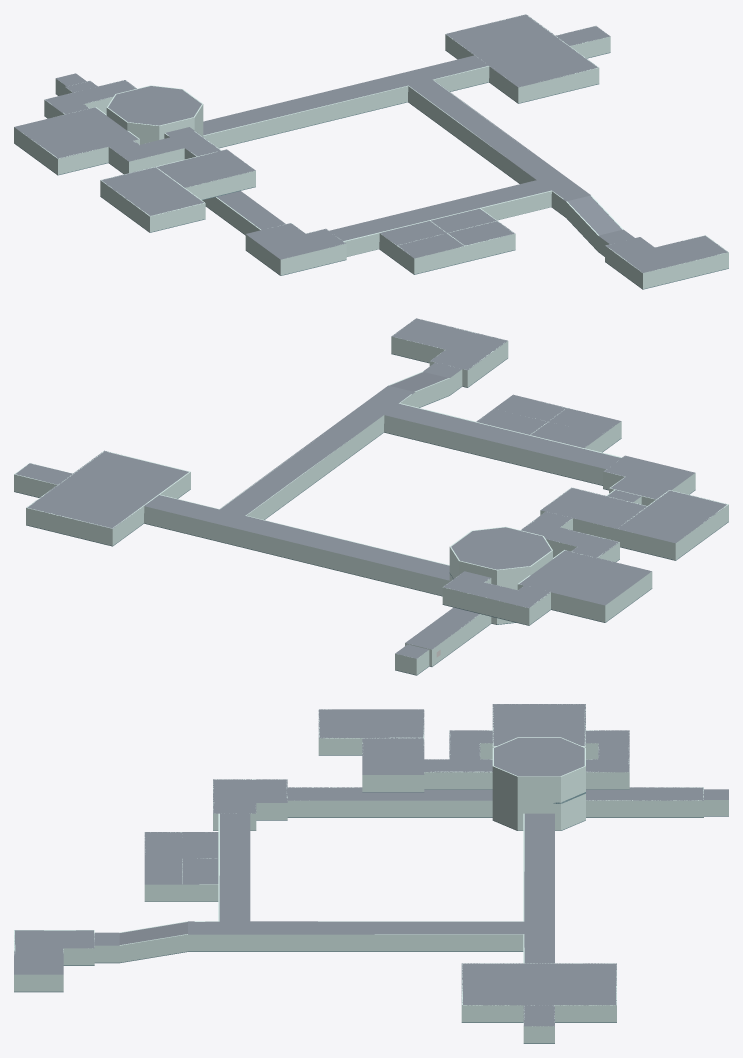
File: map.fbx
3 views of the same model, one above another, from view 1: azimuth 30°, elevation 25°; view 2: azimuth 150°, elevation 25°; view 3: azimuth 270°, elevation 25° (orthographic). The views are drawn at different scales.
Visible parts, largest first — view 1: Cealing.015, Wall.006, Cealing.008, Cealing.004, Floor.017; view 2: Wall.006, Cealing.015, Cealing.008, Cealing.004, Cealing.006, Floor.017; view 3: Cealing.015, Wall.006, Cealing.008, Cealing.004, Cealing.006, Floor.017.
Part boxes in pixels (x1,y1,x2,y2): Cealing.015: (203, 14, 727, 272); Wall.006: (14, 14, 728, 288); Cealing.008: (14, 80, 255, 216); Cealing.004: (108, 86, 201, 125); Floor.017: (56, 50, 728, 289); Wall.006: (14, 319, 728, 674); Cealing.015: (15, 318, 694, 580); Cealing.008: (443, 487, 726, 608); Cealing.004: (451, 527, 551, 569); Cealing.006: (395, 607, 479, 658); Floor.017: (14, 353, 695, 675); Cealing.015: (14, 779, 616, 1026); Wall.006: (14, 704, 728, 1043); Cealing.008: (318, 704, 629, 774); Cealing.004: (494, 738, 584, 776); Cealing.006: (586, 787, 728, 800); Floor.017: (14, 816, 728, 1043).
Size of the model in its own units: 11200 by 1165 by 11500.
